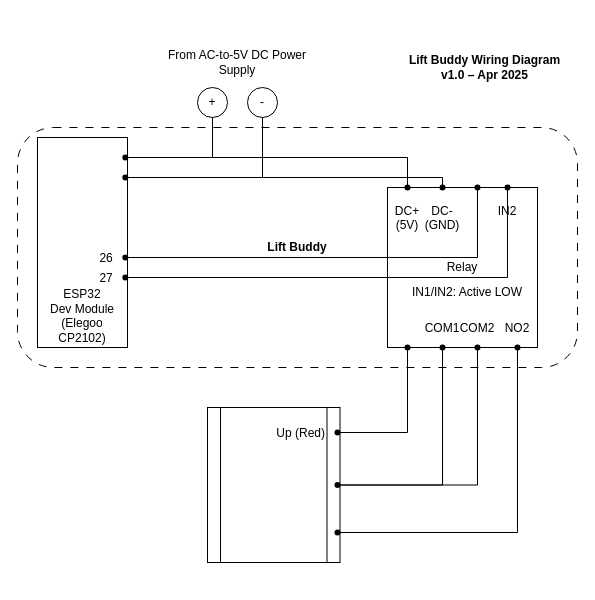
This 595x600 diagram has some shape labels left out. Here are the shapes that lost their labels. From the top down, the box of each, then its label:
(114, 146, 135, 168): VIN (5V DC)
(114, 166, 135, 188): GND
(466, 176, 488, 198): IN1
(396, 336, 418, 358): NO1
(206, 406, 340, 562): Boat Lift Switch
(326, 474, 348, 495): Common (Black)
(326, 522, 348, 542): Down (Yellow)
